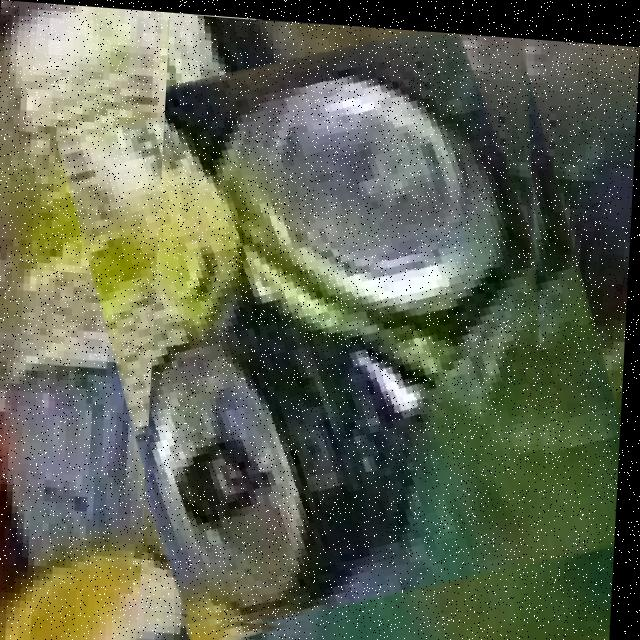can: (151, 26, 546, 621)
